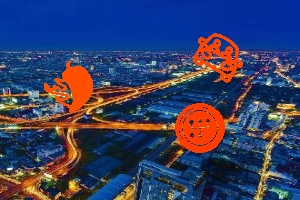圆饼: (174, 103, 229, 152)
树叶: (53, 61, 95, 112)
汽车: (195, 32, 243, 83)
